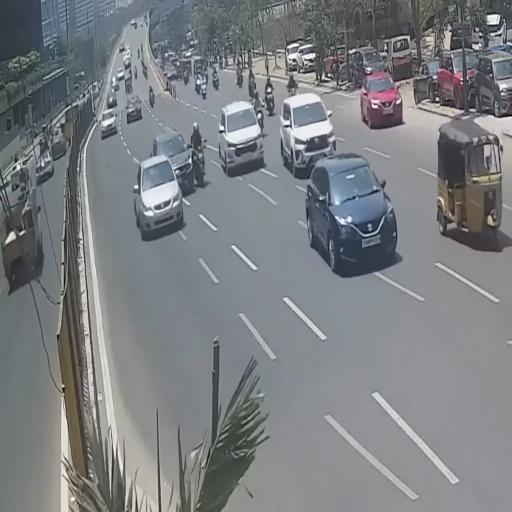小汽车: (310, 142, 396, 264), (438, 120, 502, 243), (281, 91, 337, 173), (133, 160, 185, 242), (217, 105, 265, 171), (154, 128, 194, 194), (435, 47, 478, 108), (475, 52, 512, 116), (360, 70, 401, 126), (99, 108, 118, 140)
自行车: (187, 120, 211, 190)
